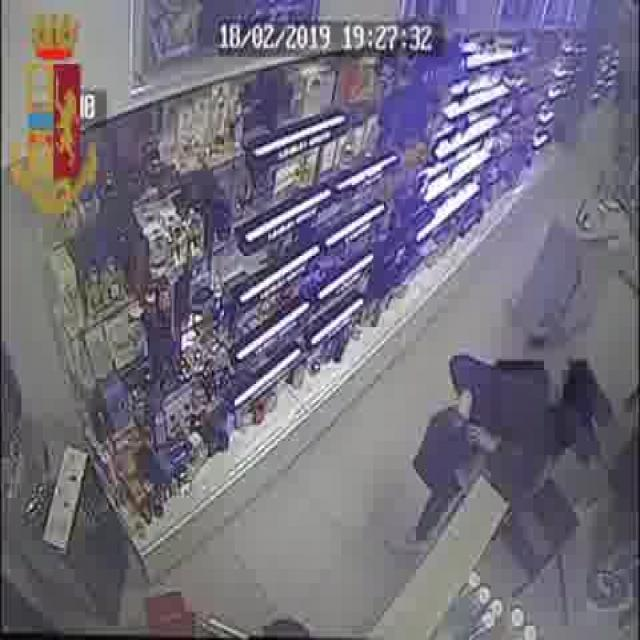Shoplifting: (419, 354, 532, 548)
